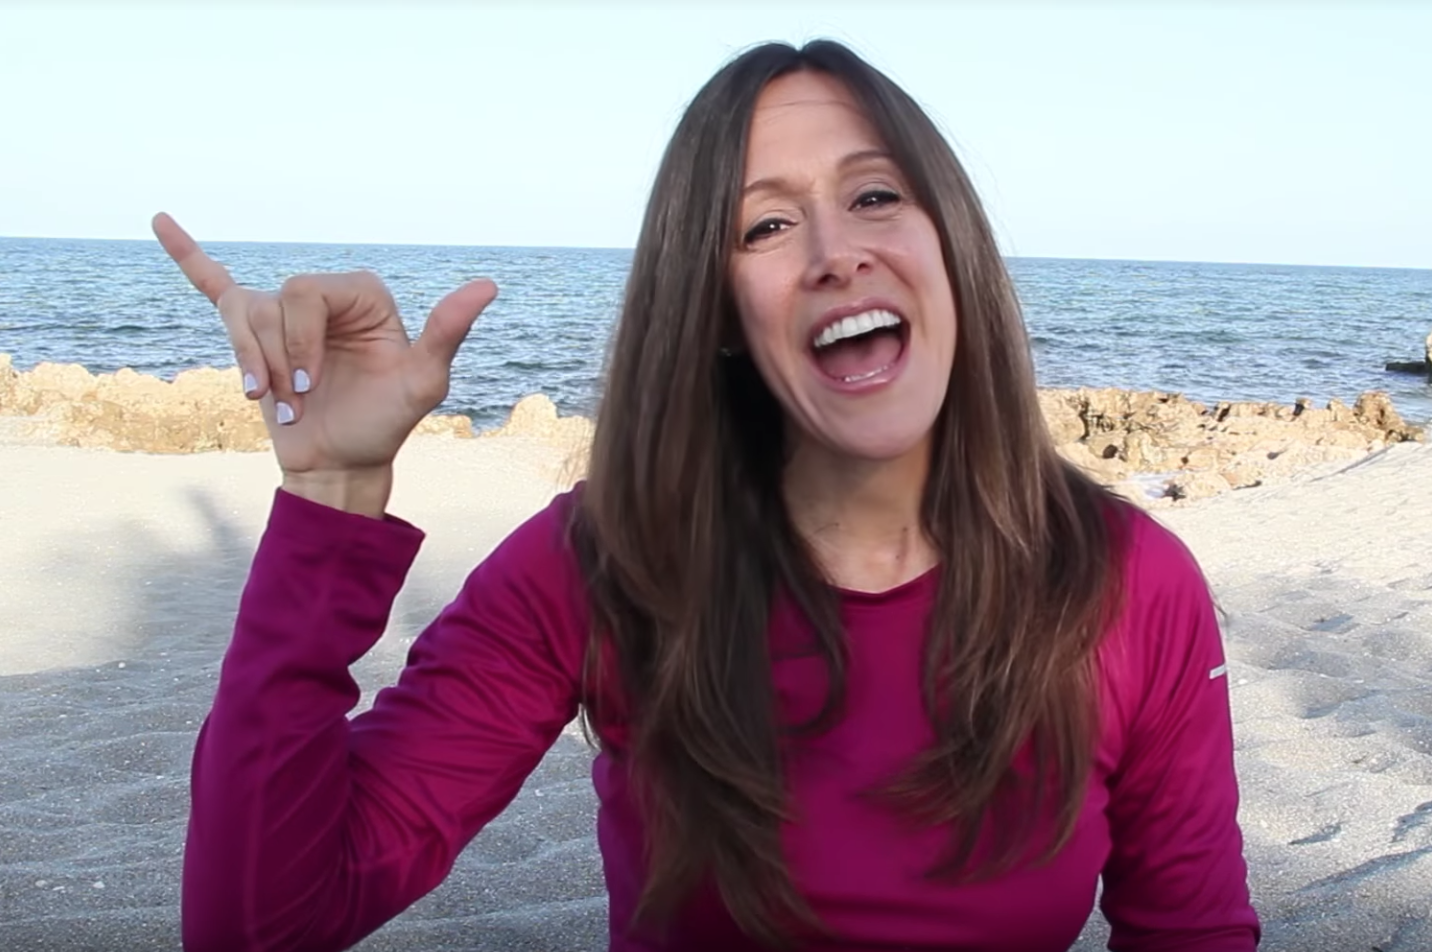y: (137, 201, 543, 530)
